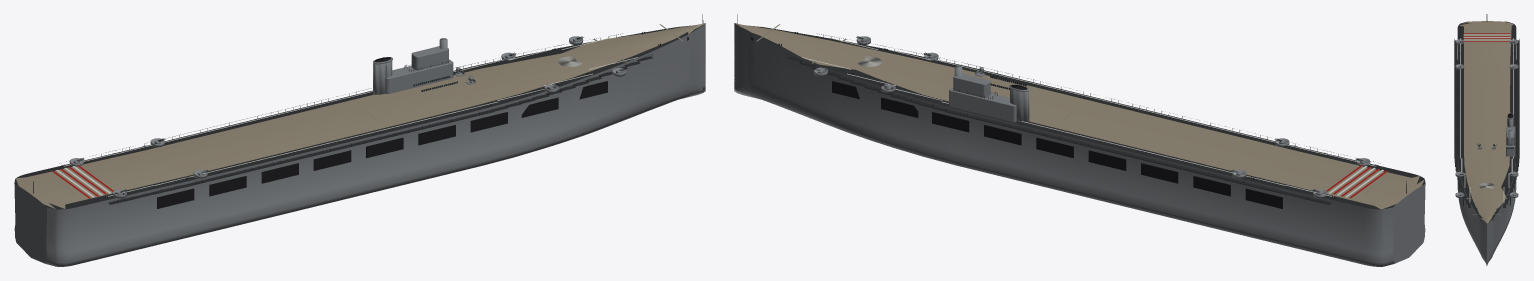
File: akagi_lod.glb
The picture shows the model from 3 angles, left to right: view 1: azimuth 30°, elevation 25°; view 2: azimuth 150°, elevation 25°; view 3: azimuth 270°, elevation 25°; orthographic projection. The views are drawn at different scales.
Parts seen in each view (by area): view 1: akagi_lod; view 2: akagi_lod; view 3: akagi_lod.
Part boxes in pixels (x1,y1,x2,y2): akagi_lod: (14, 14, 705, 266); akagi_lod: (734, 14, 1425, 266); akagi_lod: (1454, 14, 1519, 265).
Size of the model in its own units: 261 by 36.49 by 34.7.
